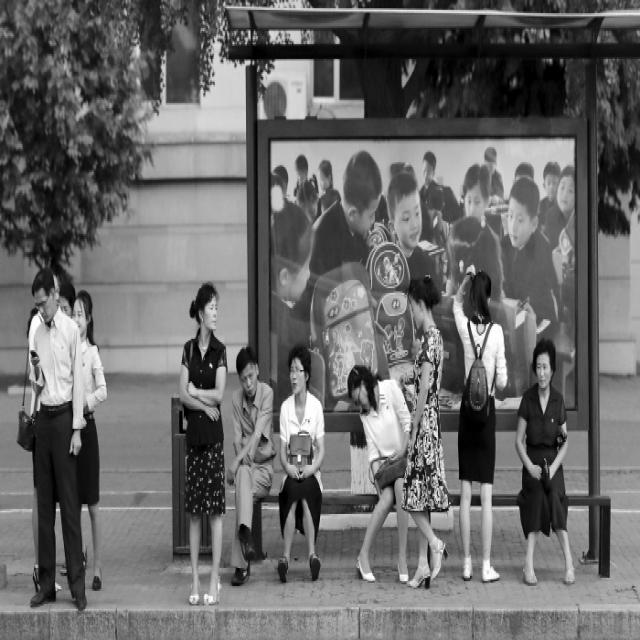person: (22, 257, 107, 626), (178, 286, 233, 603), (340, 344, 414, 568), (457, 259, 507, 580), (404, 277, 455, 585), (516, 328, 576, 585), (67, 290, 114, 592), (222, 340, 272, 578), (280, 344, 323, 571)
